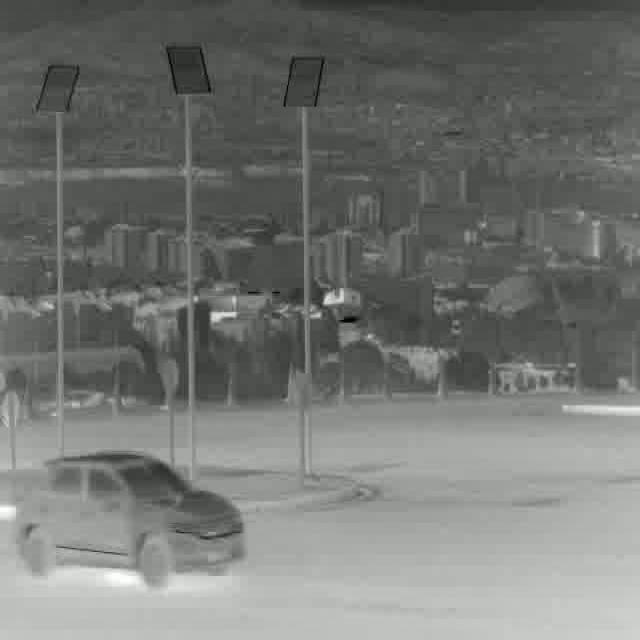Car: (17, 452, 248, 588)
